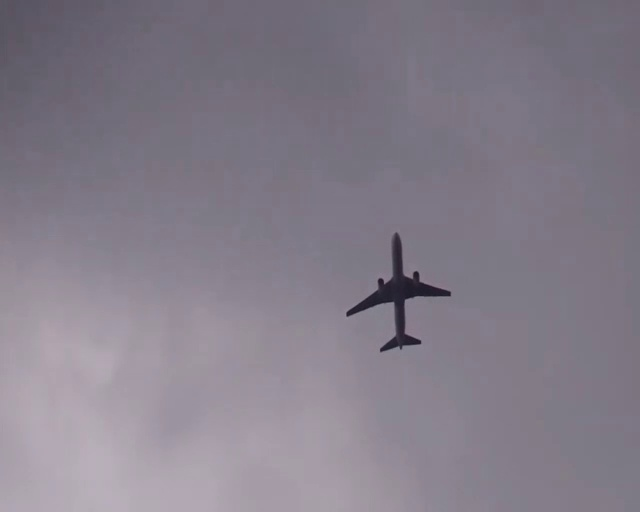AIRPLANE: (346, 230, 452, 353)
